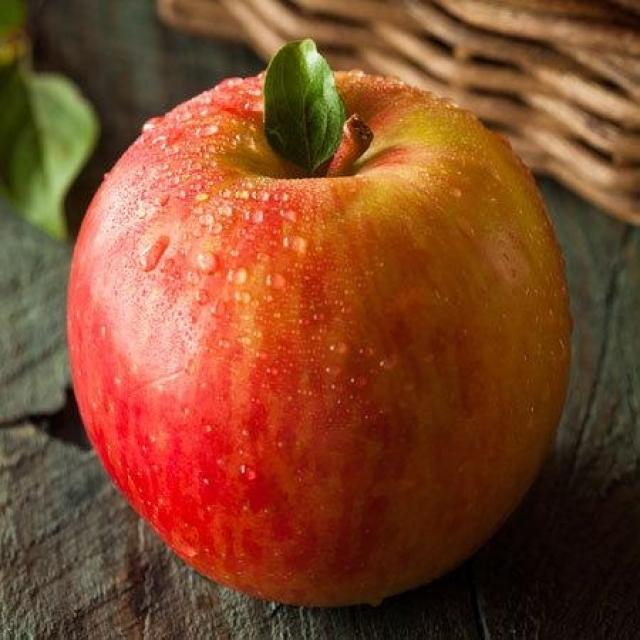apple: (55, 36, 556, 597)
